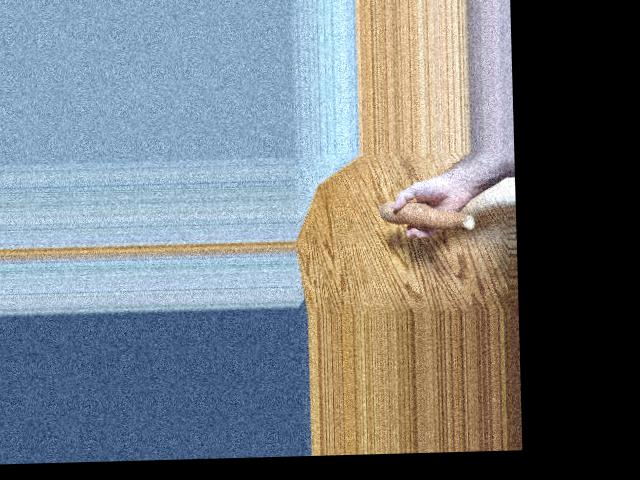sweet_potato: (381, 199, 472, 229)
